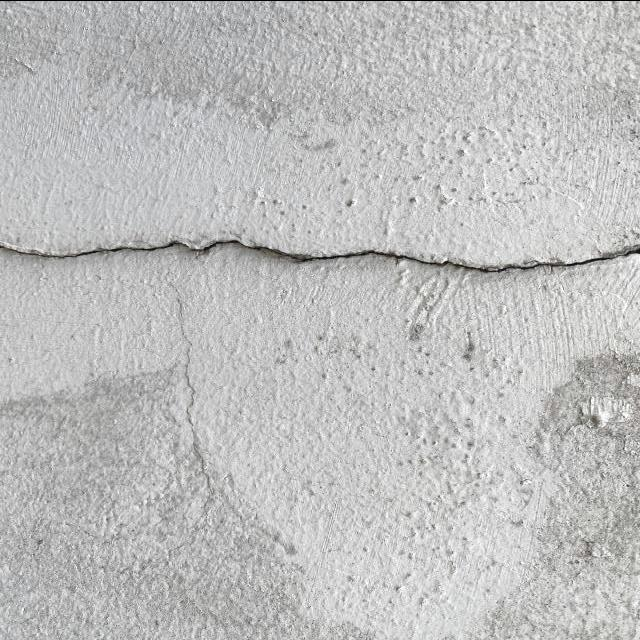SurfaceCrack: (0, 196, 639, 329)
